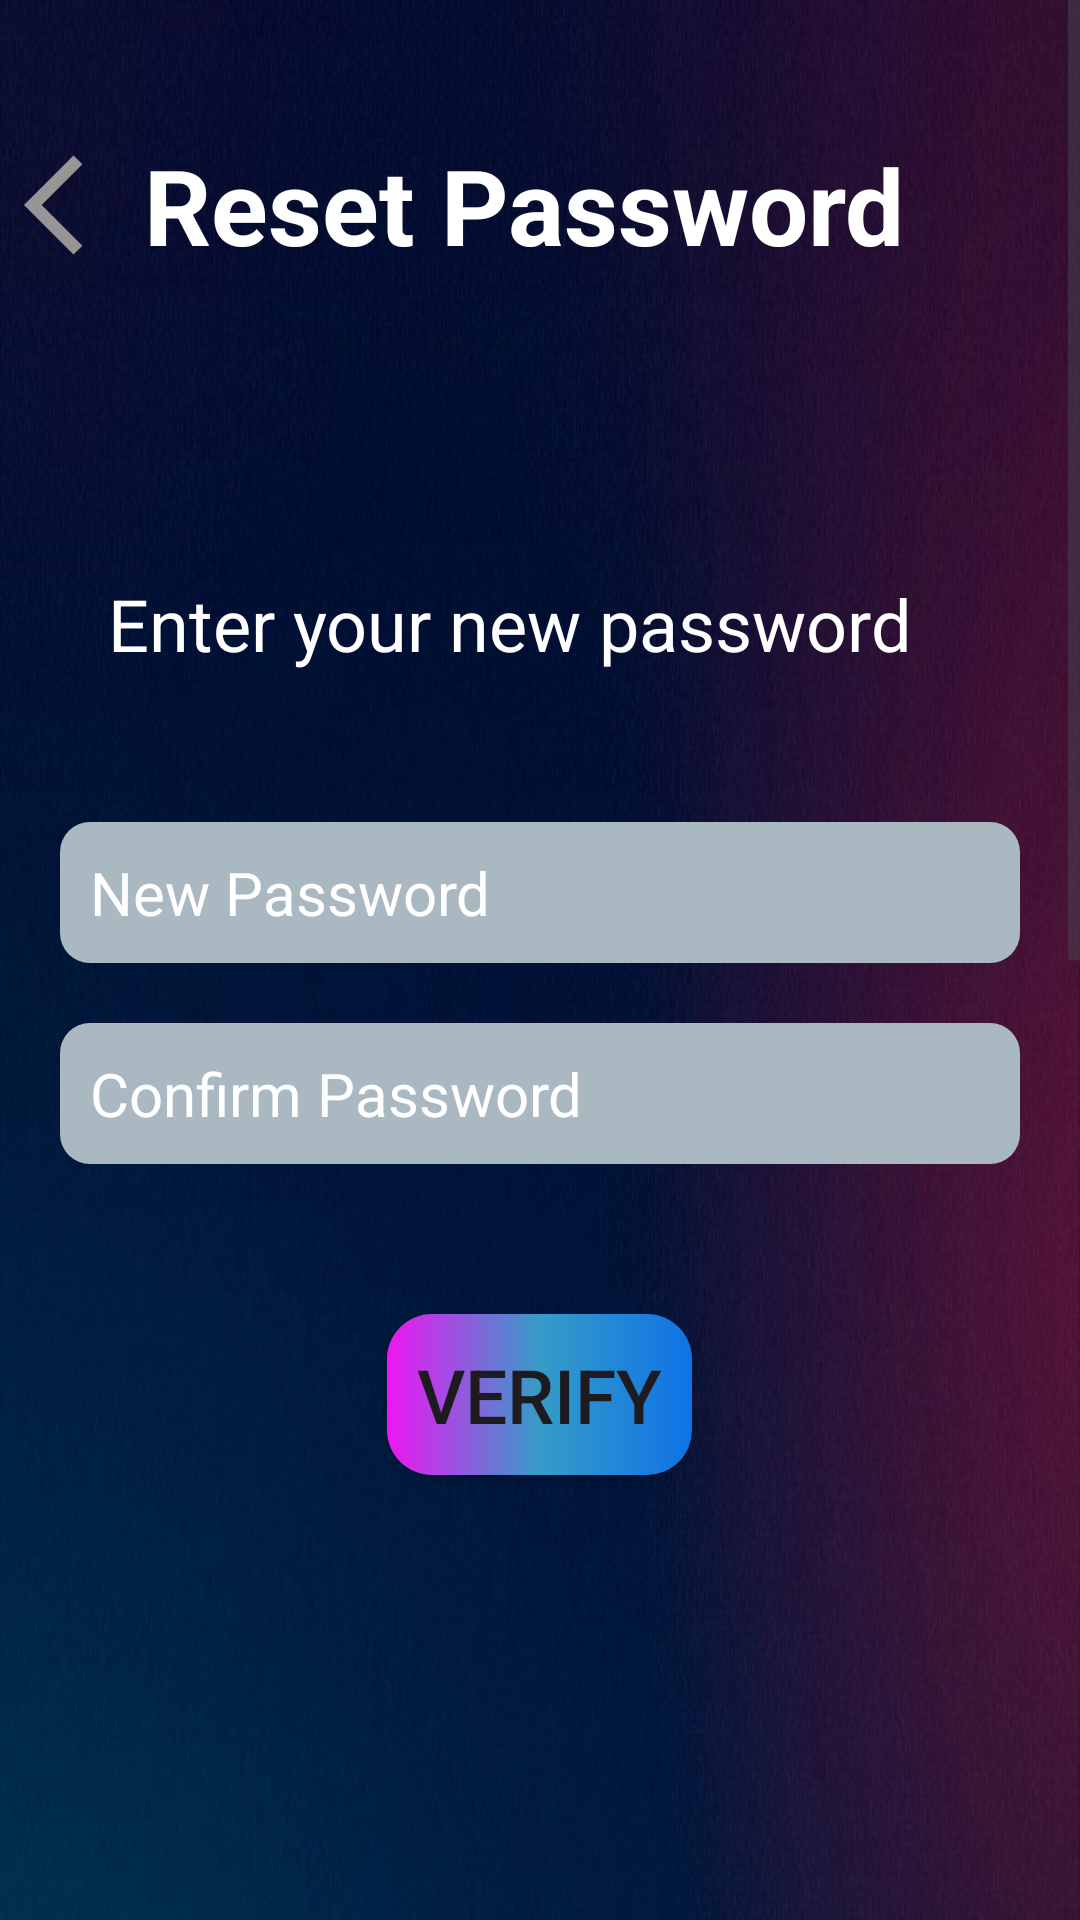

Icons on this 1080*1920 Android screen, each with the point to tap as (x=x, y=y):
arrow back: (x=53, y=205)
